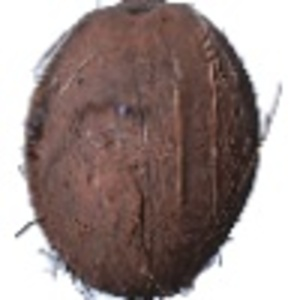coco: (17, 1, 273, 300)
